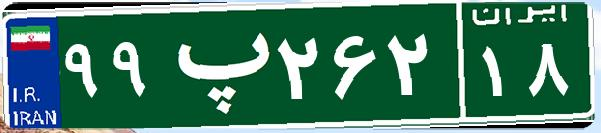1: (475, 38, 525, 113)
2: (385, 28, 445, 110), (273, 28, 330, 110)
6: (330, 28, 385, 110)
8: (525, 38, 570, 115)
9: (57, 26, 110, 107), (110, 28, 158, 105)
پ: (158, 15, 273, 115)
